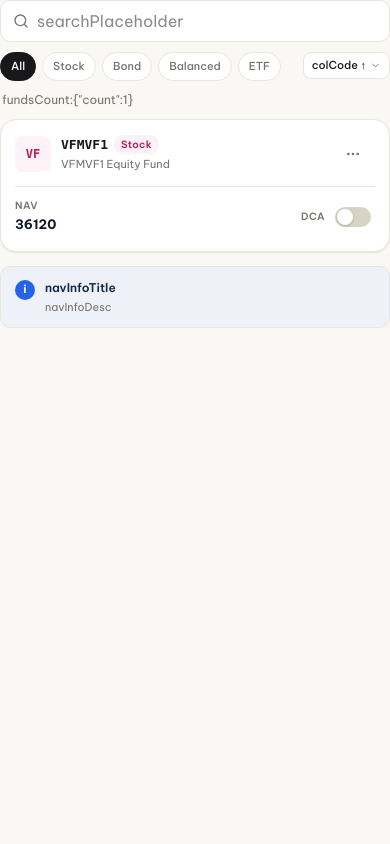
Scenario: MobileFundLibraryView — ETFs › still asks for a NAV when editing an open-ended fund
What coordinates should you click on to do the following:
click the button named "fundActions"
I would click on:
 (353, 154)
Its box is [331,132,375,176].
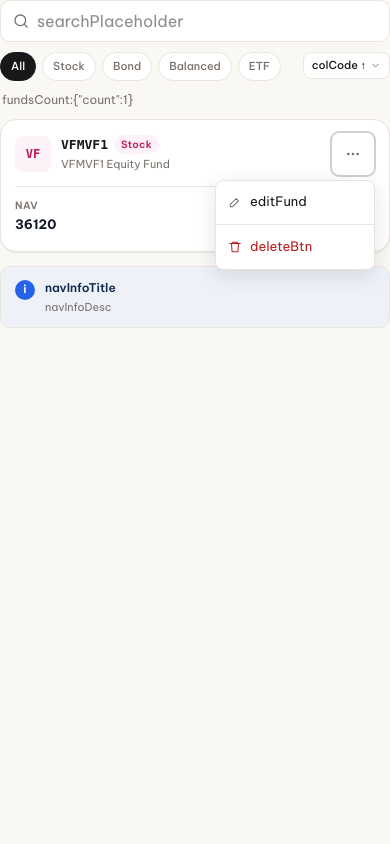
What coordinates should you click on to do the following:
click the menu item "editFund"
I would click on:
 (295, 202)
Its box is [216,180,374,224].
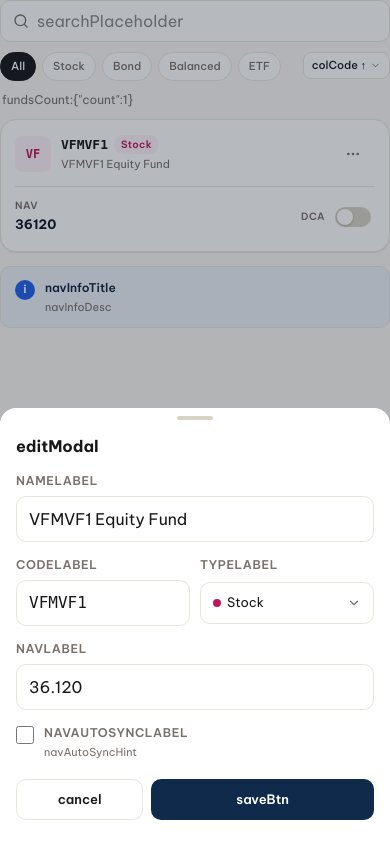
Expected: the text "navLabel" is shown, [16,641,87,656]
